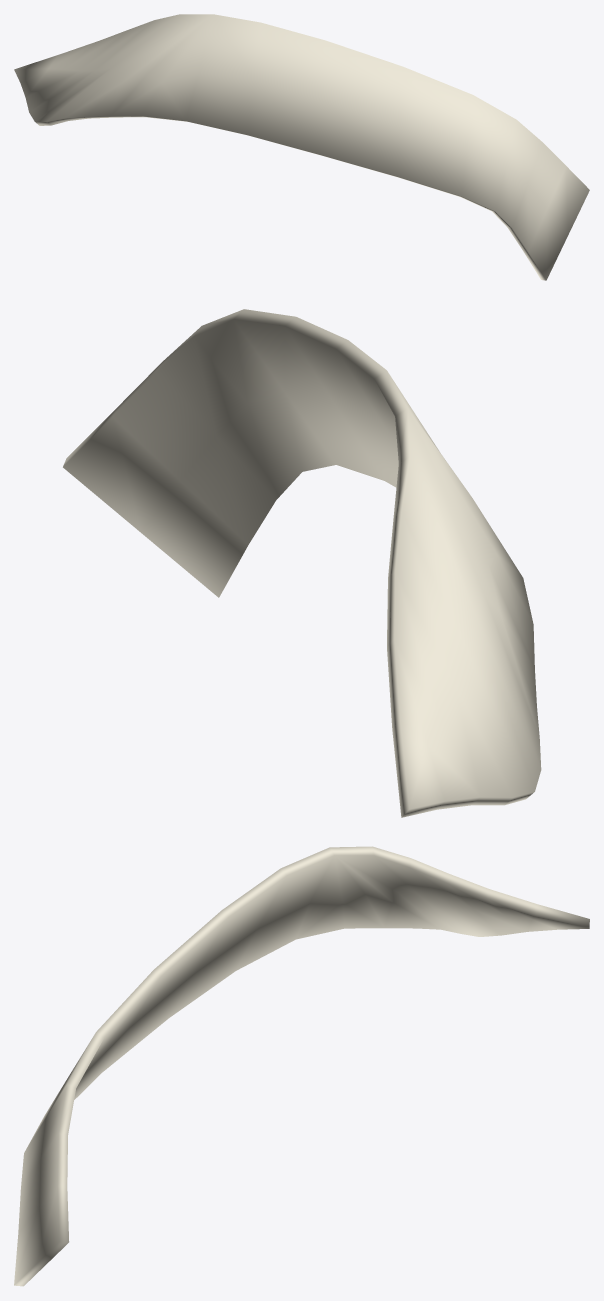
The picture shows the model from 3 angles, top to bottom: view 1: azimuth 30°, elevation 25°; view 2: azimuth 150°, elevation 25°; view 3: azimuth 270°, elevation 25°; orthographic projection. The views are drawn at different scales.
Parts seen in each view (by area): view 1: ZA_c18537df26e1ff4c; view 2: ZA_c18537df26e1ff4c; view 3: ZA_c18537df26e1ff4c.
Part boxes in pixels (x1,y1,x2,y2): ZA_c18537df26e1ff4c: (14,14,589,280); ZA_c18537df26e1ff4c: (63,309,541,817); ZA_c18537df26e1ff4c: (14,846,589,1286).
Bounding box in the file's own units: 0.0293 × 0.0165 × 0.0283.
